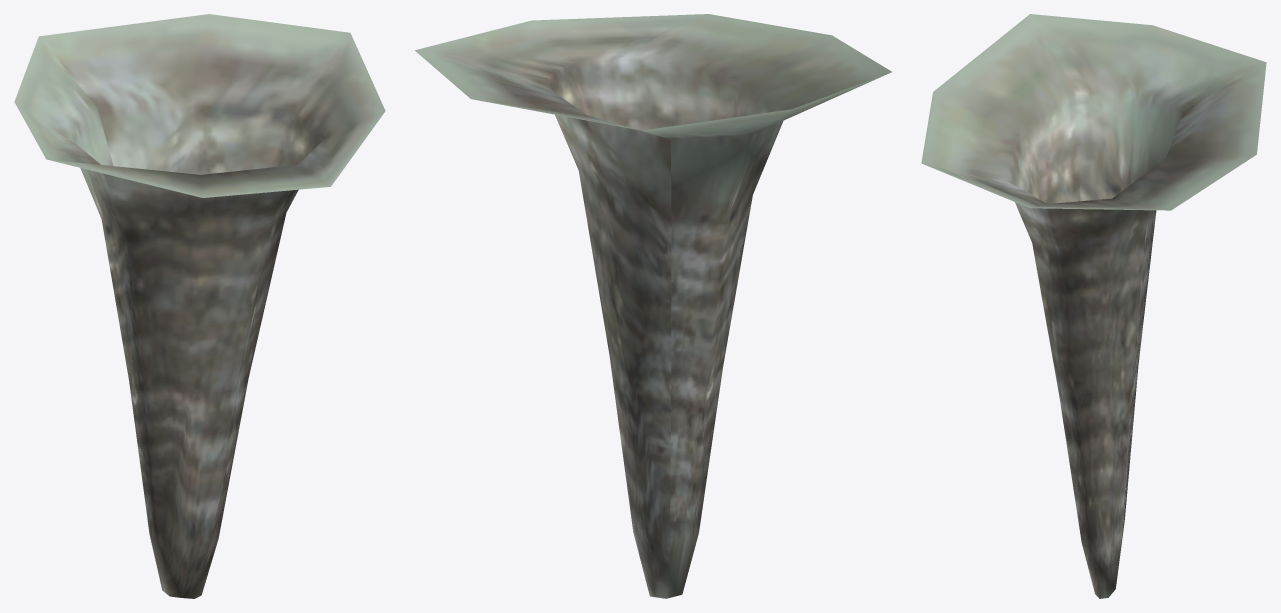
File: TROLLHOLE02_PS-SECRETSTALAG26.fbx
3 views of the same model, side by side, from view 1: azimuth 30°, elevation 25°; view 2: azimuth 150°, elevation 25°; view 3: azimuth 270°, elevation 25° (orthographic). The views are drawn at different scales.
Visible parts, largest first — view 1: TROLLHOLE02_PS-SECRETSTALAG26; view 2: TROLLHOLE02_PS-SECRETSTALAG26; view 3: TROLLHOLE02_PS-SECRETSTALAG26.
Part boxes in pixels (x1,y1,x2,y2): TROLLHOLE02_PS-SECRETSTALAG26: (14,14,385,598); TROLLHOLE02_PS-SECRETSTALAG26: (415,14,891,598); TROLLHOLE02_PS-SECRETSTALAG26: (921,14,1266,598).
Bounding box in the file's own units: 21923 × 28656 × 17906.
Materials: 1 (1 with a texture image).
